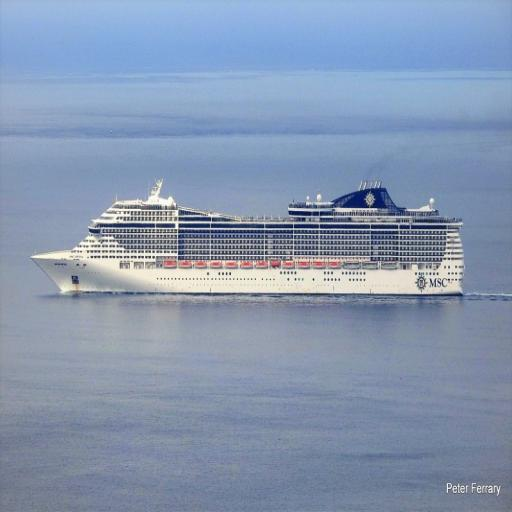cruises: (26, 172, 468, 306)
